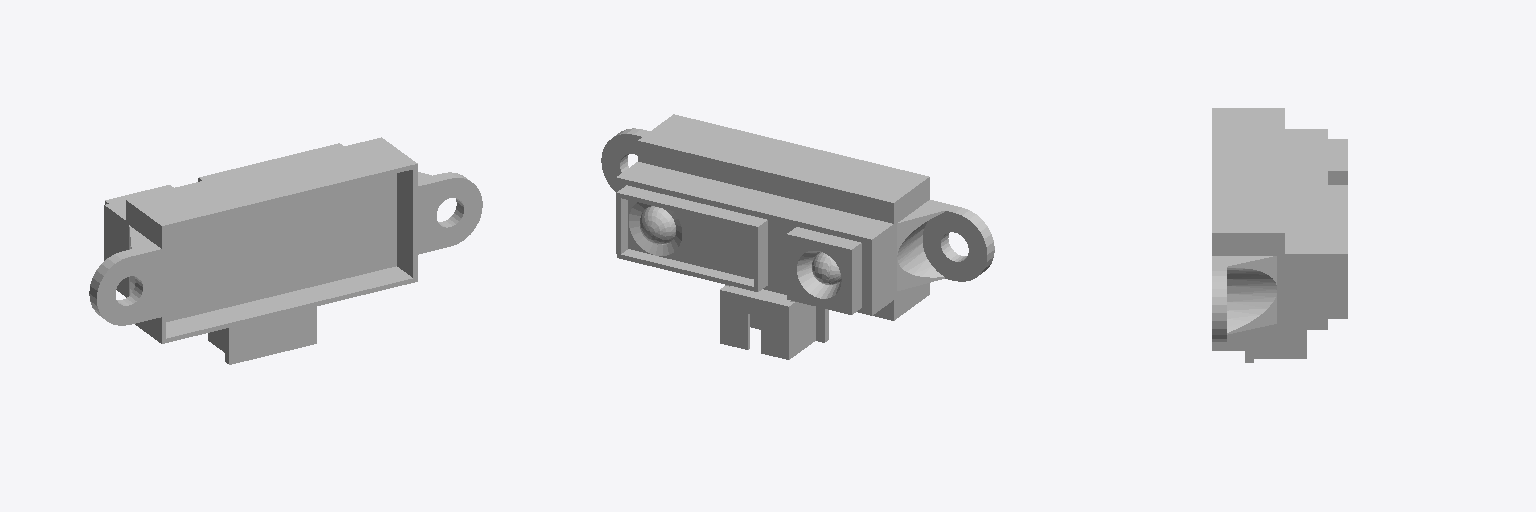
File: SHARP_GP2Y.obj
3 views of the same model, side by side, from view 1: azimuth 30°, elevation 25°; view 2: azimuth 150°, elevation 25°; view 3: azimuth 270°, elevation 25° (orthographic).
Visible parts, largest first — view 1: Eacc703B[number redacted]F4D0708C12Ea6Dbdb; view 2: Eacc703B[number redacted]F4D0708C12Ea6Dbdb; view 3: Eacc703B[number redacted]F4D0708C12Ea6Dbdb.
Boxes of the visible parts, x1=… form: Eacc703B[number redacted]F4D0708C12Ea6Dbdb: x1=89, y1=137, x2=482, y2=364; Eacc703B[number redacted]F4D0708C12Ea6Dbdb: x1=601, y1=114, x2=994, y2=359; Eacc703B[number redacted]F4D0708C12Ea6Dbdb: x1=1212, y1=108, x2=1347, y2=362.
Bounding box in the file's own units: 4.45 × 1.89 × 1.35.